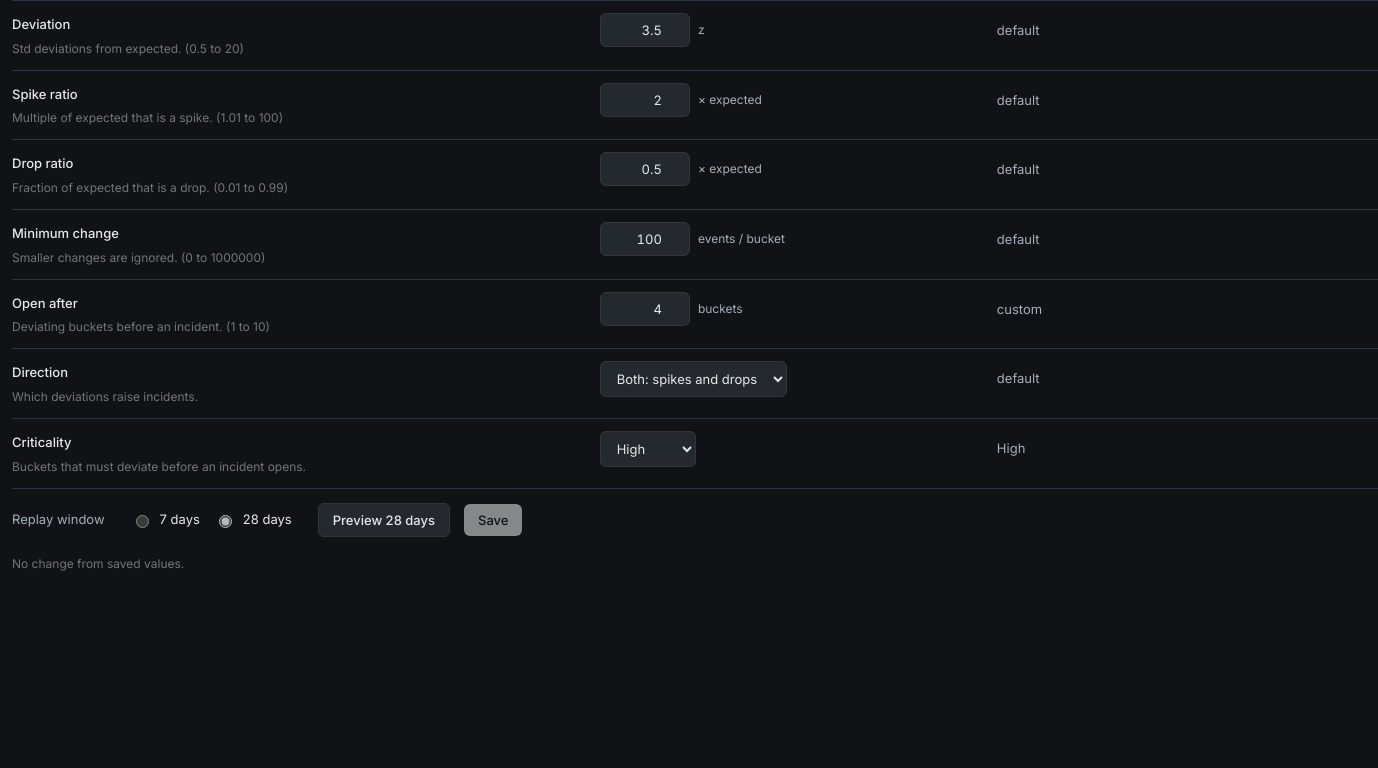
it: the preview and criticality › sends criticality when it changed and states what the replay used
Select "Low" in the dropdown labelled "Criticality". click: (648, 449)
box: [600,431,696,467]
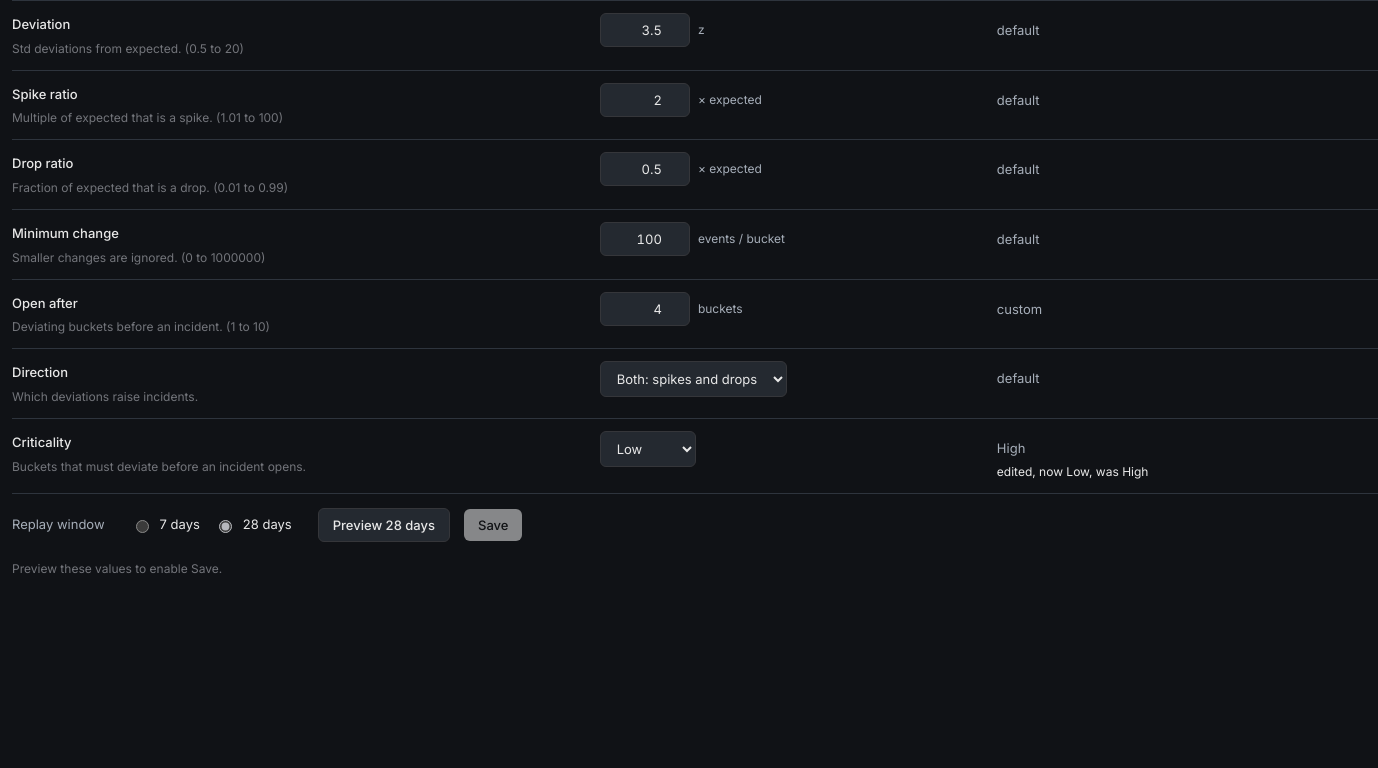
Click the button "Preview 28 days". click: (384, 525)
box: [318,508,450,542]
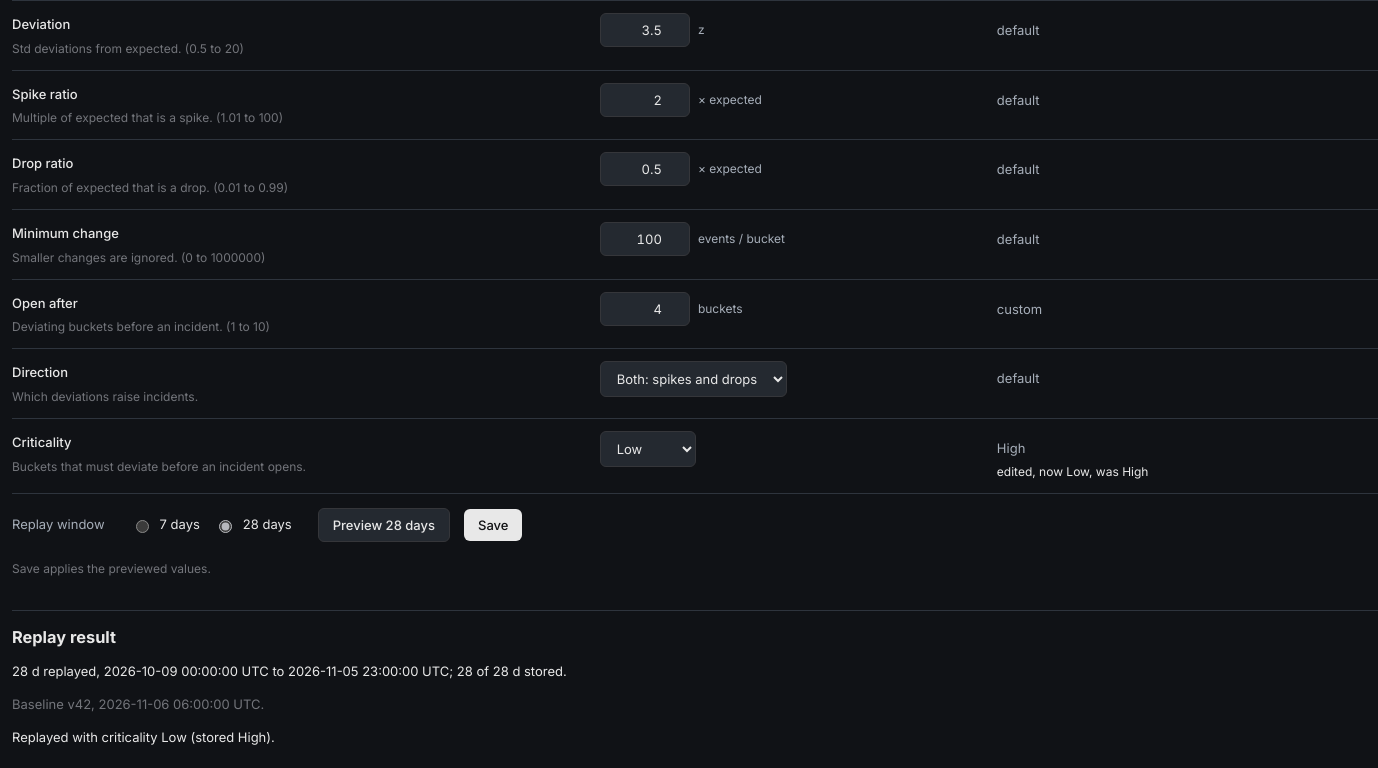
Check: the heading "Replay result" is shown, box [12,627,116,647]
Check: the text "Replayed with criticality Low (stored High)." is shown, box [12,729,275,745]
Check: the button "Save" is enabled, box [464,509,522,541]
